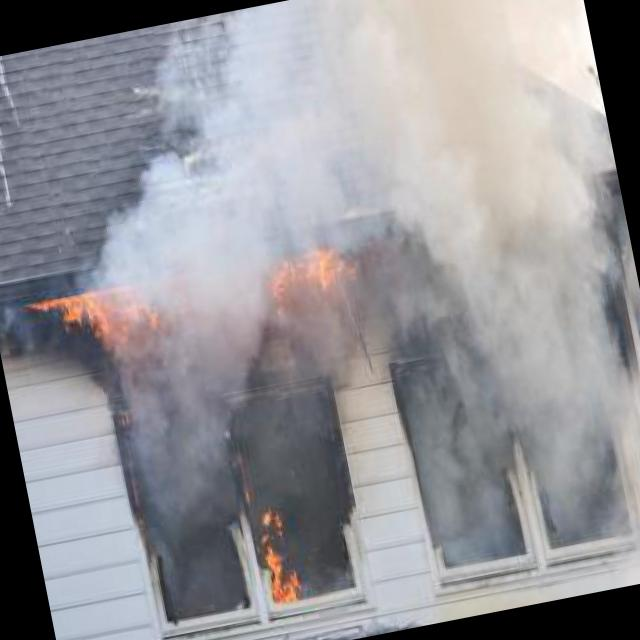fire: (35, 256, 171, 362), (245, 233, 353, 320), (243, 496, 304, 616)
smoke: (35, 0, 640, 640)
